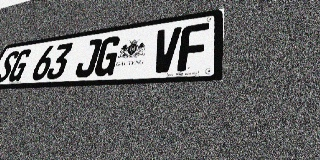3: (45, 42, 74, 80)
6: (30, 45, 58, 81)
F: (177, 22, 209, 72)
G: (92, 35, 123, 77), (6, 48, 33, 82)
J: (73, 38, 103, 78)
S: (0, 50, 20, 83)
V: (150, 26, 182, 73)
